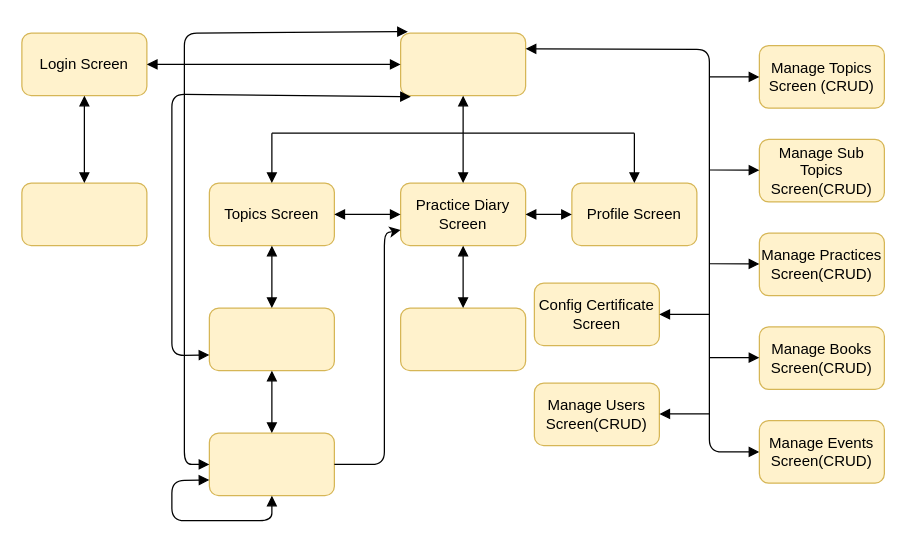
The diagram is 906 pixels wide and 555 high, and some of its shapes have lost their labels. Each missing label, with the centre of its shape:
Certificate Screen: point 462,339
Home Screen: point 462,64
Signup Screen: point 84,214
Solve Practice Screen: point 271,464
SubTopics Screen: point 271,339
